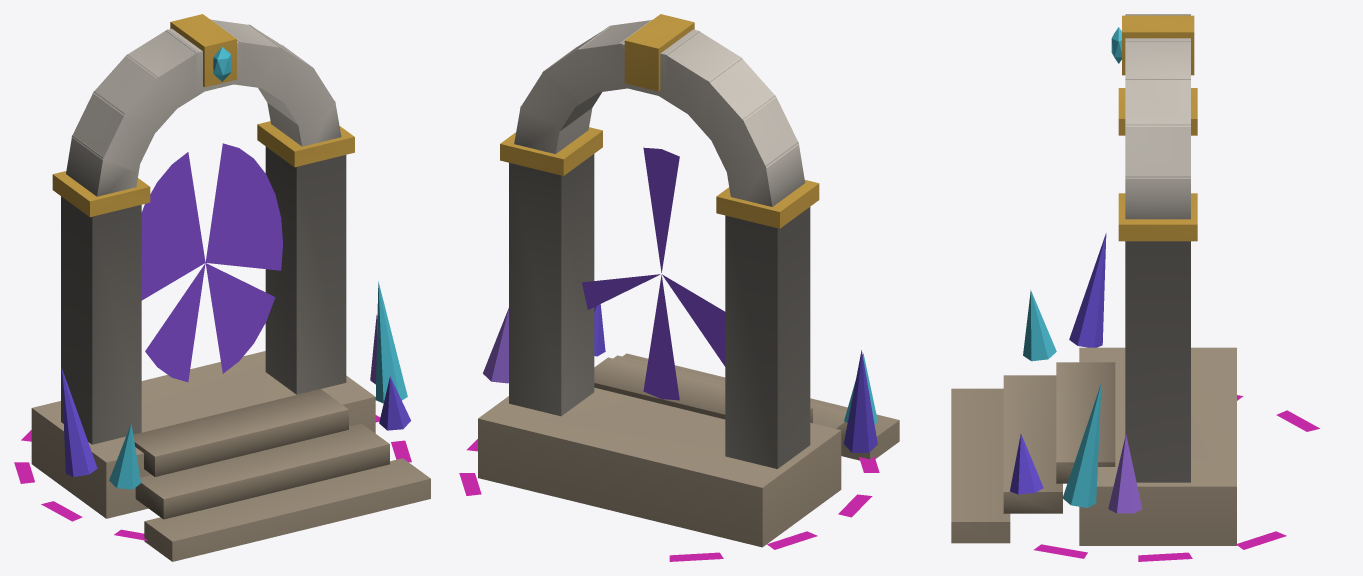
Rendered from portal.glb.
The picture shows the model from 3 angles, left to right: view 1: azimuth 30°, elevation 25°; view 2: azimuth 150°, elevation 25°; view 3: azimuth 270°, elevation 25°; orthographic projection. The views are drawn at different scales.
Visible parts, largest first — view 1: Corp, Vartej, Cristal, Marcaj_PLACEHOLDER; view 2: Corp, Vartej, Cristal, Marcaj_PLACEHOLDER; view 3: Corp, Cristal, Marcaj_PLACEHOLDER.
Boxes of the visible parts, x1=… form: Corp: x1=31, y1=14, x2=430, y2=561; Vartej: x1=141, y1=143, x2=282, y2=382; Cristal: x1=61, y1=47, x2=410, y2=489; Marcaj_PLACEHOLDER: x1=14, y1=415, x2=411, y2=540; Corp: x1=478, y1=14, x2=899, y2=547; Vartej: x1=582, y1=147, x2=725, y2=400; Cristal: x1=483, y1=304, x2=877, y2=452; Marcaj_PLACEHOLDER: x1=459, y1=439, x2=879, y2=561; Corp: x1=951, y1=14, x2=1236, y2=545; Cristal: x1=1010, y1=27, x2=1142, y2=513; Marcaj_PLACEHOLDER: x1=1034, y1=395, x2=1319, y2=561.
Bounding box in the file's own units: 3.26 × 3.8 × 3.2.
